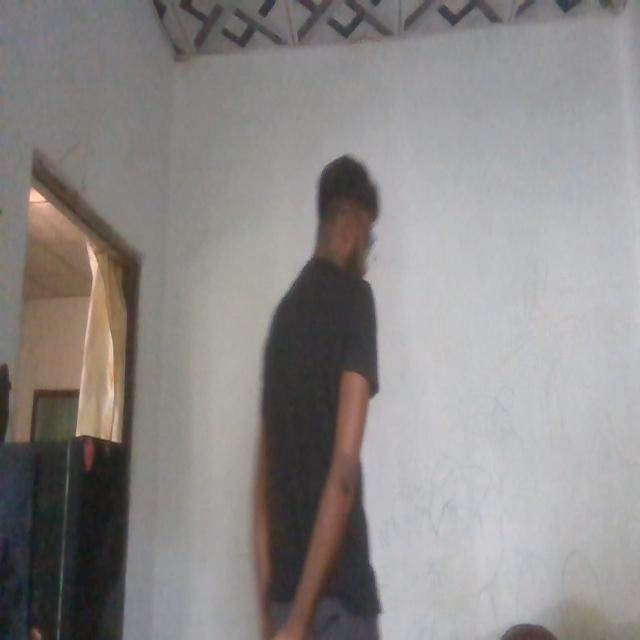Person: (243, 149, 402, 640)
